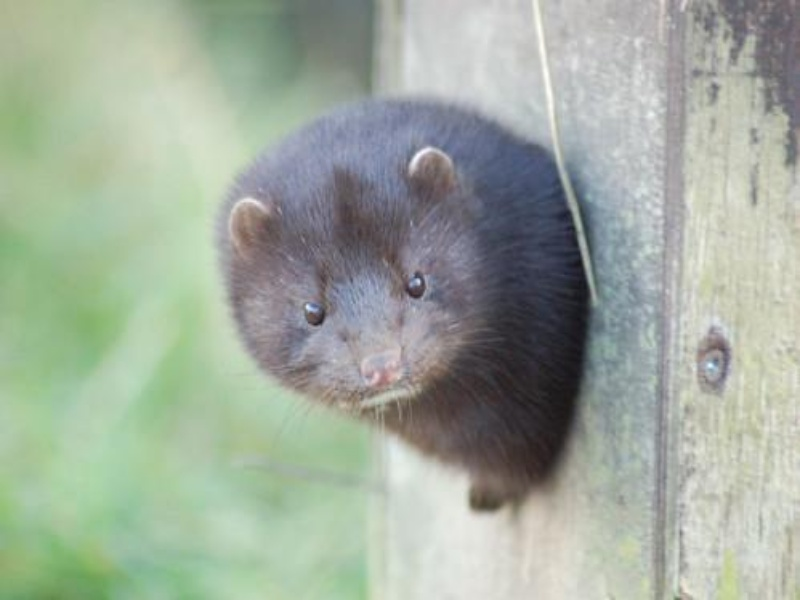minkish: (209, 81, 598, 516)
